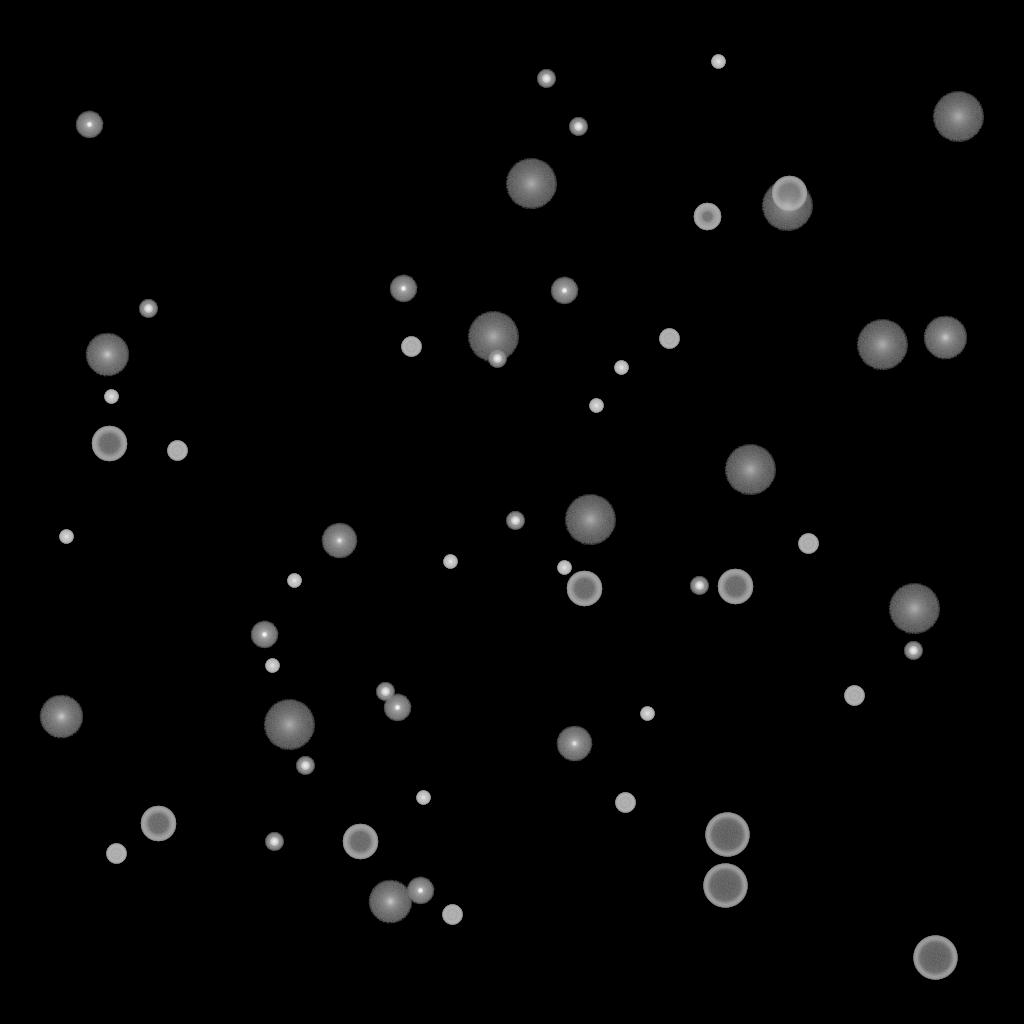depth:-10: (75, 111, 103, 139), (383, 694, 411, 722), (406, 877, 434, 905), (250, 621, 278, 649), (550, 277, 578, 305), (389, 275, 417, 303)
depth:-20: (376, 683, 394, 701), (506, 512, 524, 530), (265, 833, 283, 851), (904, 642, 922, 660), (690, 577, 708, 595), (139, 300, 157, 318), (537, 70, 555, 88), (296, 757, 314, 775), (488, 350, 506, 368), (569, 118, 587, 136)
depth:-30: (104, 390, 118, 404), (416, 791, 430, 805), (265, 659, 279, 673), (711, 55, 725, 69), (640, 707, 654, 721), (557, 561, 571, 575), (589, 399, 603, 413), (443, 555, 457, 569), (614, 361, 628, 375), (287, 574, 301, 588), (59, 530, 73, 544)
depth:-40: (659, 329, 679, 349), (442, 905, 462, 925), (167, 441, 187, 461), (106, 844, 126, 864), (844, 686, 864, 706), (798, 534, 818, 554), (615, 793, 635, 813), (401, 337, 421, 357)
depth:-50: (693, 203, 721, 231)
depth:-60: (717, 569, 753, 605), (771, 176, 807, 212), (342, 824, 378, 860), (140, 806, 176, 842), (91, 426, 127, 462), (566, 571, 602, 607)
depth:-70: (705, 813, 749, 857), (913, 936, 957, 980), (703, 864, 747, 908)
depth:0: (321, 523, 357, 559), (556, 726, 592, 762)
depth:10: (39, 695, 83, 739), (368, 880, 412, 924), (85, 333, 129, 377), (923, 316, 967, 360)
depth:20: (888, 584, 940, 634), (505, 159, 557, 209), (724, 445, 776, 495), (467, 312, 519, 362), (932, 92, 984, 142), (263, 700, 315, 750), (761, 181, 813, 231), (564, 495, 616, 545), (856, 320, 908, 370)
